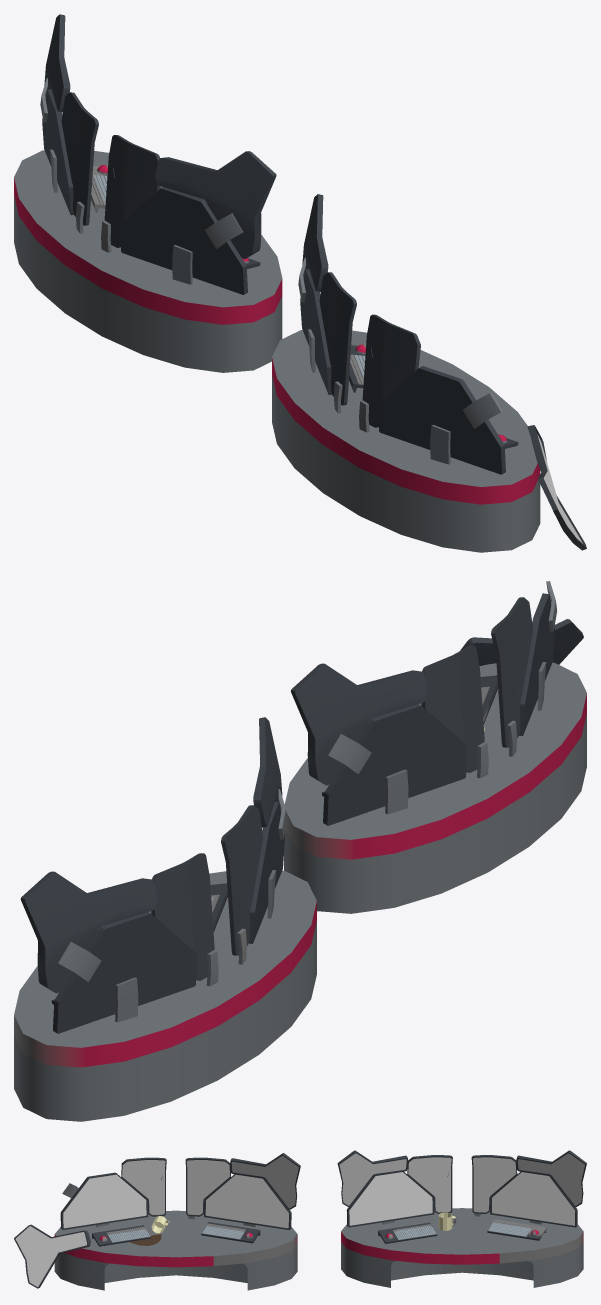
The model's file is Terminal1.fbx.
3 renders of one model, top to bottom at view 1: azimuth 30°, elevation 25°; view 2: azimuth 150°, elevation 25°; view 3: azimuth 270°, elevation 25°, orthographic. The views are drawn at different scales.
Parts seen in each view (by area): view 1: Terminal_1_Broken_Desk, Terminal_1_Desk, Terminal_1_Screens, Terminal_1_Broken_Screens, Terminal_1_Broken_Metal, Terminal_1_Metal, Terminal_1_Broken_Keyboards, Terminal_1_Keyboards; view 2: Terminal_1_Desk, Terminal_1_Broken_Desk, Terminal_1_Screens, Terminal_1_Broken_Screens, Terminal_1_Broken_Metal, Terminal_1_Metal; view 3: Terminal_1_Broken_Screens, Terminal_1_Screens, Terminal_1_Desk, Terminal_1_Broken_Desk, Terminal_1_Keyboards, Terminal_1_Broken_Keyboards, Terminal_1_Mug, Terminal_1_Broken_Metal, Terminal_1_Broken_Mug, Terminal_1_Broken_CoffeeSpill.
Part boxes in pixels (x1,y1,x2,y2): Terminal_1_Broken_Desk: (272,330,540,552); Terminal_1_Desk: (14,150,282,372); Terminal_1_Screens: (42,14,276,294); Terminal_1_Broken_Screens: (300,194,586,550); Terminal_1_Broken_Metal: (298,257,502,464); Terminal_1_Metal: (40,78,243,284); Terminal_1_Broken_Keyboards: (349,344,518,448); Terminal_1_Keyboards: (91,165,260,268); Terminal_1_Desk: (14,870,316,1121); Terminal_1_Broken_Desk: (284,662,586,913); Terminal_1_Screens: (20,717,284,1033); Terminal_1_Broken_Screens: (291,593,583,825); Terminal_1_Broken_Metal: (328,581,557,814); Terminal_1_Metal: (58,789,286,1022); Terminal_1_Broken_Screens: (14,1153,300,1288); Terminal_1_Screens: (337,1150,586,1227); Terminal_1_Desk: (341,1208,583,1287); Terminal_1_Broken_Desk: (54,1210,297,1290); Terminal_1_Keyboards: (378,1219,546,1243); Terminal_1_Broken_Keyboards: (92,1222,260,1246); Terminal_1_Mug: (438,1212,456,1230); Terminal_1_Broken_Metal: (62,1183,255,1227); Terminal_1_Broken_Mug: (151,1216,169,1233); Terminal_1_Broken_CoffeeSpill: (130,1233,161,1245).
Size of the model in its own units: 9.55 by 10.94 by 46.97.
